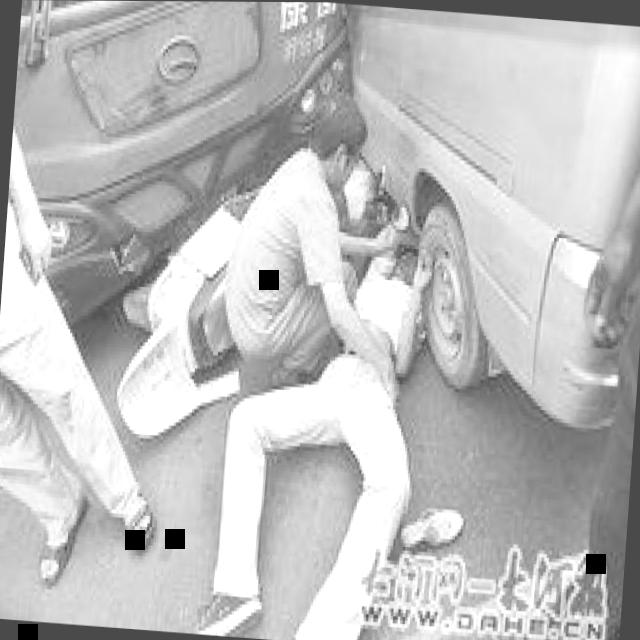Fall-Detected: (153, 186, 462, 640)
